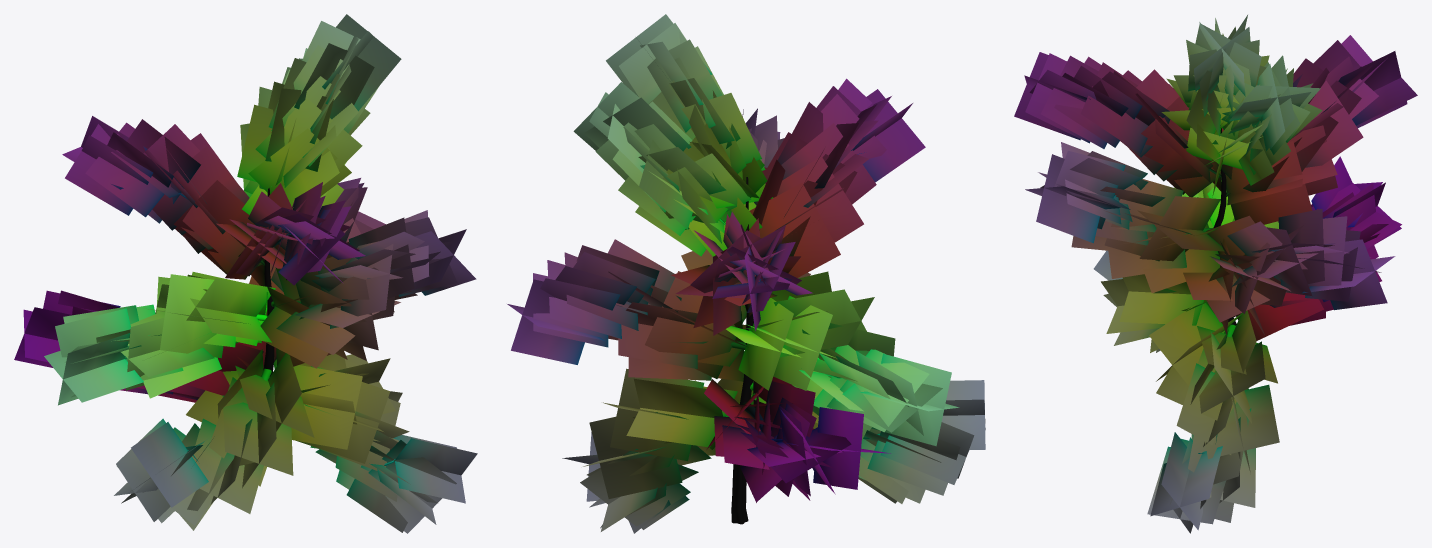
Rendered from URP_P6_Tree_10_LOD_0.fbx.
3 views of the same model, side by side, from view 1: azimuth 30°, elevation 25°; view 2: azimuth 150°, elevation 25°; view 3: azimuth 270°, elevation 25° (orthographic). The views are drawn at different scales.
Visible parts, largest first — view 1: Tree_10_LOD_0; view 2: Tree_10_LOD_0; view 3: Tree_10_LOD_0.
Boxes of the visible parts, <box> form: Tree_10_LOD_0: <box>14,14,477,533</box>; Tree_10_LOD_0: <box>507,14,985,533</box>; Tree_10_LOD_0: <box>1014,15,1417,533</box>.
Bounding box in the file's own units: 915 × 1165 × 860.
